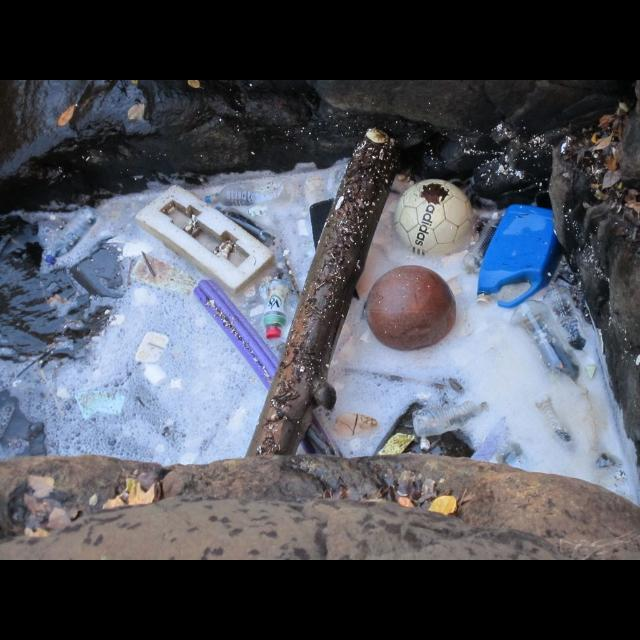Football: (390, 176, 474, 254)
